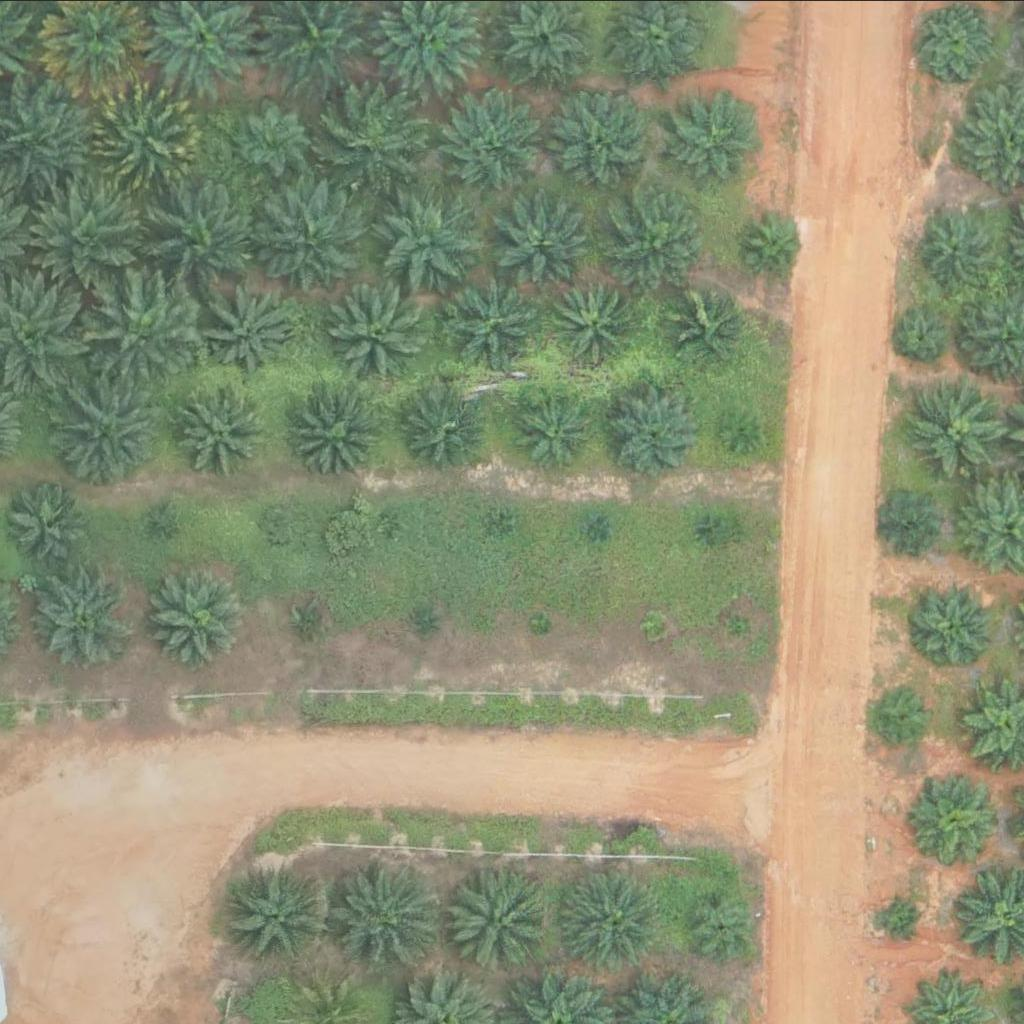Kelapa_Sawit: (49, 375, 163, 488), (90, 82, 203, 195), (147, 182, 261, 294), (250, 178, 364, 290), (83, 273, 197, 385), (34, 185, 147, 297), (598, 376, 711, 488), (327, 857, 440, 969), (379, 191, 480, 291), (328, 282, 429, 382), (440, 274, 541, 374), (32, 567, 133, 667), (140, 569, 241, 669), (607, 187, 708, 287), (552, 93, 653, 193), (662, 88, 763, 188), (227, 867, 328, 967), (907, 377, 1008, 477), (323, 86, 423, 186), (444, 93, 544, 193), (447, 872, 547, 972), (561, 867, 661, 967), (509, 382, 598, 470), (401, 385, 489, 473), (553, 276, 641, 364), (912, 579, 1000, 667), (505, 197, 593, 284), (206, 285, 294, 372), (173, 385, 261, 472), (295, 392, 383, 479), (2, 479, 90, 566), (917, 773, 1005, 860), (683, 886, 759, 961), (234, 102, 310, 177), (917, 1, 993, 76), (671, 282, 746, 357), (920, 210, 995, 285), (744, 215, 807, 278), (882, 492, 945, 555), (875, 683, 938, 745), (899, 310, 949, 360), (265, 503, 303, 541), (720, 410, 758, 448), (883, 896, 921, 933), (150, 503, 175, 528), (380, 507, 405, 532), (496, 513, 521, 538), (300, 607, 325, 632), (413, 607, 438, 632), (531, 611, 556, 636), (643, 615, 668, 640), (727, 612, 752, 637), (585, 512, 610, 537), (695, 519, 720, 544)
